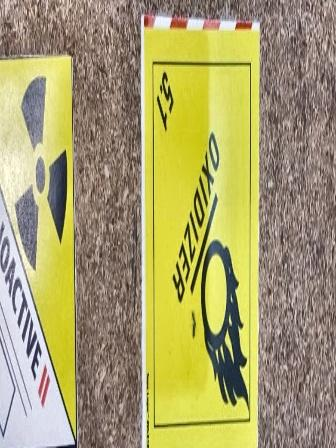oxidizer: (146, 25, 258, 448)
radioactive: (1, 53, 78, 448)
